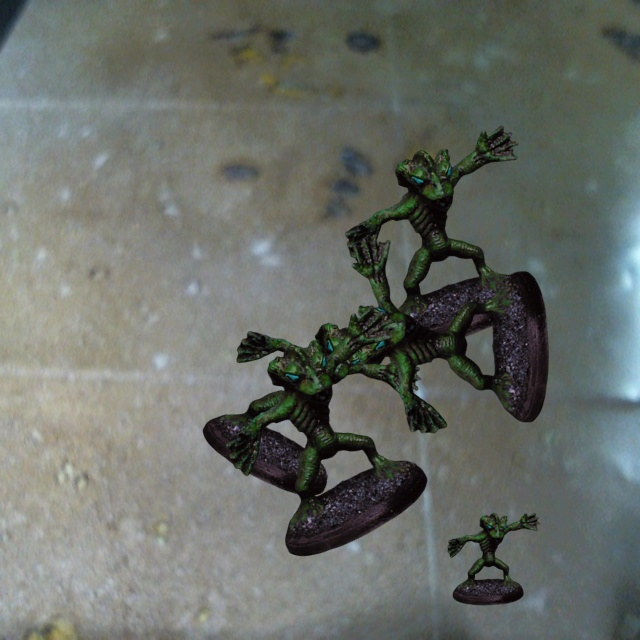pieza_juego: (225, 305, 427, 555), (345, 126, 527, 348), (352, 235, 548, 432), (203, 323, 420, 495), (447, 513, 540, 605)
